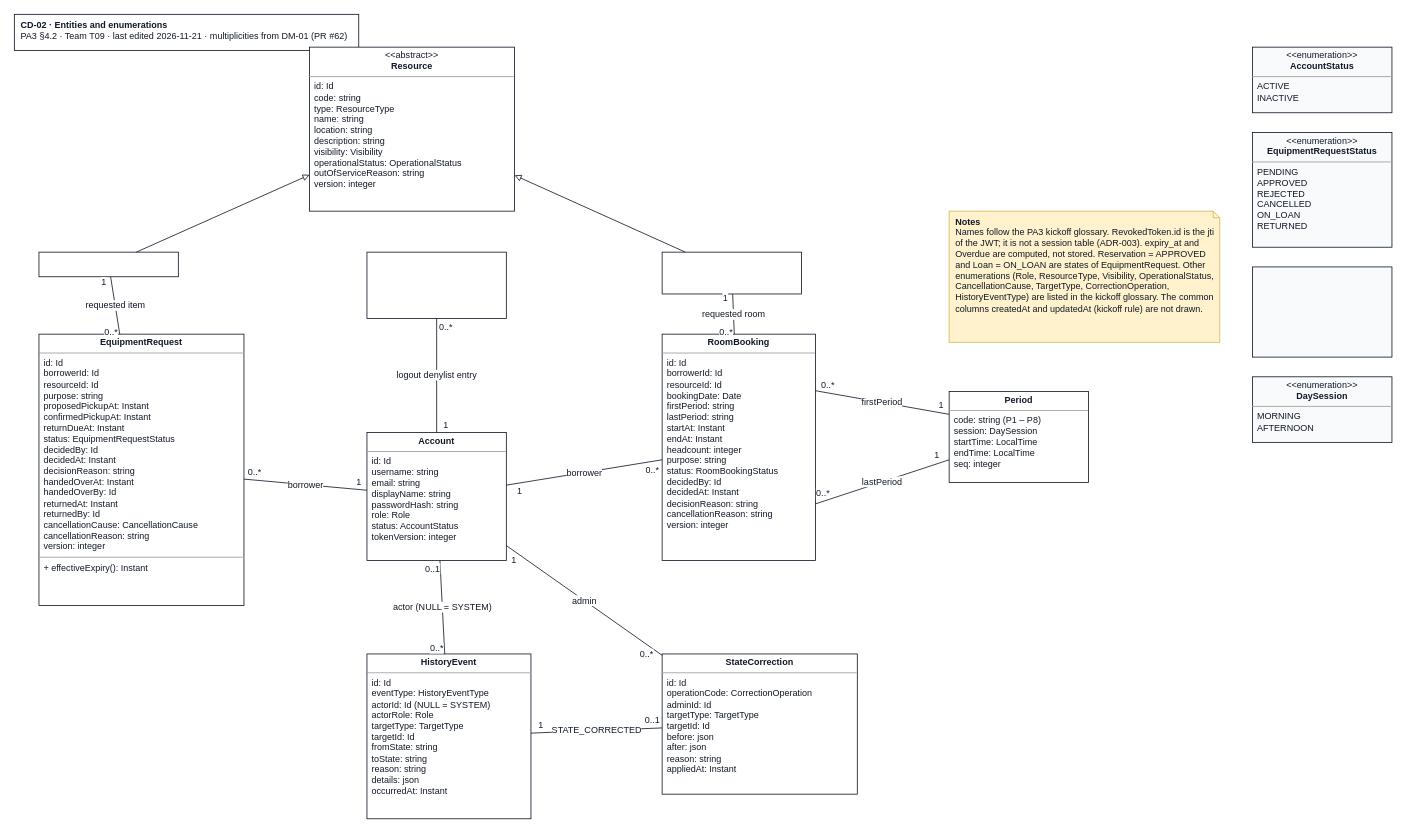
The diagram is 1406 pixels wide and 833 high, and some of its shapes have lost their labels. Here are the shapes that lost their labels. From the top down, the centre of each, then its label:
At pixel 108 264: "Equipment".
At pixel 731 272: "Room capacity: integer".
At pixel 436 285: "RevokedToken id: UUID (= jti) accountId: Id expiresAt: Instant".
At pixel 1322 311: "<<enumeration>> RoomBookingStatus PENDING APPROVED REJECTED CANCELLED".
